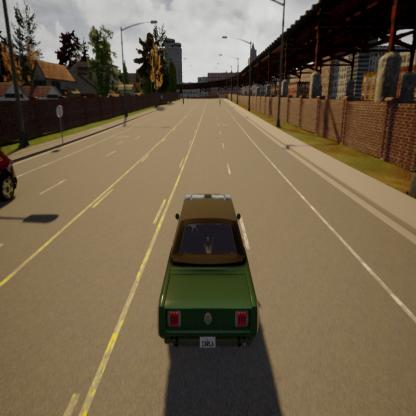Cars: (158, 192, 258, 351), (0, 151, 22, 206), (218, 96, 223, 110), (182, 93, 184, 105)
